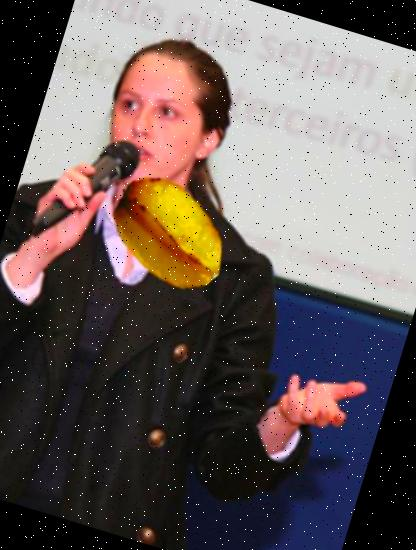Carambula: (90, 153, 250, 313)
